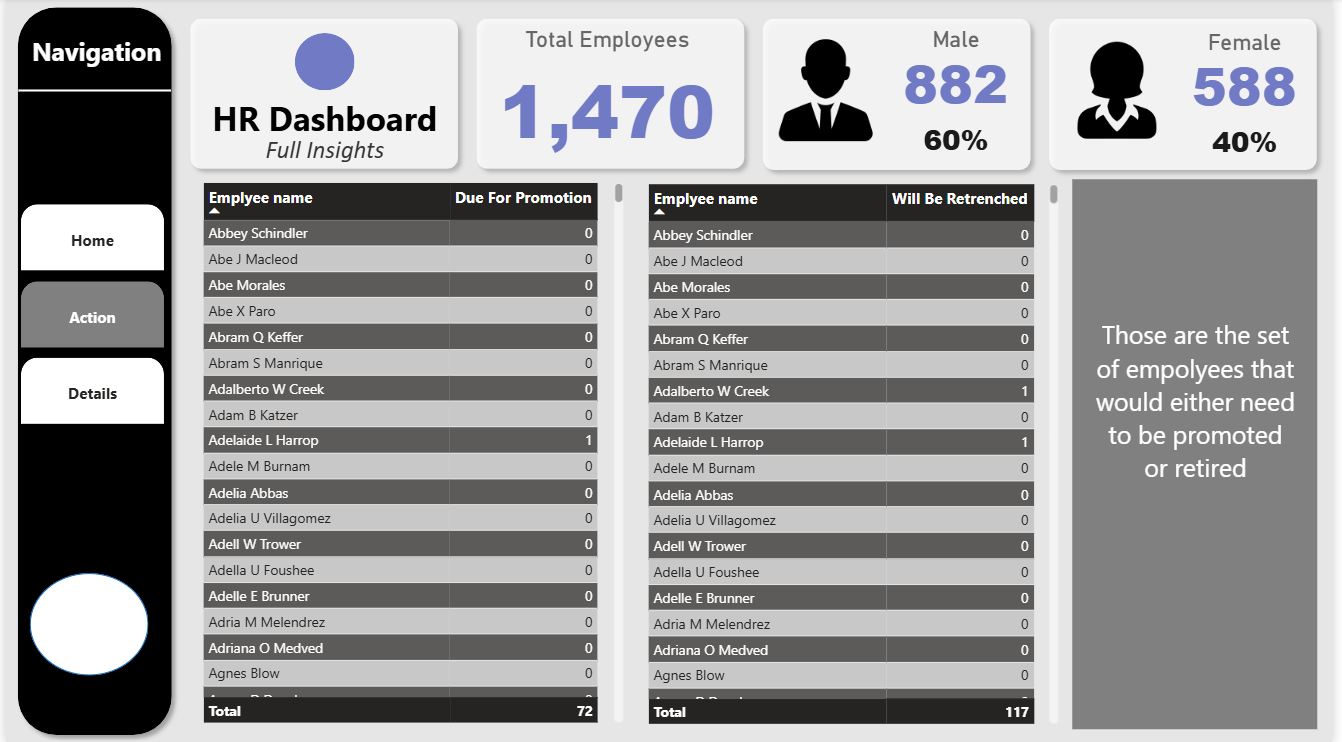

The page's visual inventory and layout, read from the dashboard file:
{"tool":"powerbi","page":{"name":"Action","canvas":[1280,720],"ordinal":1},"visuals":[{"type":"shape","box":[2.4,0,166.5,720.2],"z":0},{"type":"shape","box":[168.9,10.9,276.3,162.9],"z":1000},{"type":"shape","box":[445.2,10.9,276.3,162.9],"z":2000},{"type":"shape","box":[721.5,10.9,276.3,164.1],"z":3000},{"type":"shape","box":[997.7,10.9,276.3,164.1],"z":4000},{"type":"textbox","box":[184.6,89.3,246.1,74.8],"z":5000},{"type":"textbox","box":[184.6,126.7,246.1,47.1],"z":6000},{"type":"shape","box":[278.7,33.8,57.9,55.5],"z":7000},{"type":"card","title":"Total Employees","fields":{"Values":["All Measures.Total Emp"]},"box":[459.7,27.7,241.3,130.3],"z":8000},{"type":"card","title":"Male","fields":{"Values":["All Measures.Male"]},"box":[856.4,27.7,120.6,80.8],"z":9000},{"type":"card","title":"Male","fields":{"Values":["All Measures.% Male"]},"box":[878.3,108.6,77.2,57.9],"z":10000},{"type":"card","title":"Female","fields":{"Values":["All Measures.Female"]},"box":[1135.6,30,120.6,80.8],"z":11000},{"type":"card","title":"Male","fields":{"Values":["All Measures.% Female"]},"box":[1157.6,110.9,77.2,57.9],"z":12000},{"type":"image","box":[1020.6,35,103.8,108.6],"z":13000},{"type":"image","box":[737.1,35,108.6,108.6],"z":14000},{"type":"tableEx","fields":{"Values":["HR employee data.Emplyee name","All Measures.Due For Promotion"]},"box":[184.6,173.7,416.2,530.8],"z":15000},{"type":"tableEx","fields":{"Values":["HR employee data.Emplyee name","All Measures.Will Be Retreanched"]},"box":[614.1,174.9,406.6,530.8],"z":16000},{"type":"pageNavigator","box":[14.5,199.1,138.7,213.5],"z":17000},{"type":"shape","box":[12.1,80.8,147.2,16.9],"z":18000},{"type":"textbox","box":[12.1,30.2,150.8,43.4],"z":19000},{"type":"shape","box":[1029.1,174.9,236.5,530.8],"z":20000},{"type":"textbox","box":[1044.8,304,206.3,218.4],"z":21000},{"type":"shape","box":[22.9,555,114.6,98.9],"z":22000}]}

Visuals, with their boxes in screenshot pixels (x1, y1, x2, y2), scaled from the page's 1280x720 canvas onto the 1342x742 screenshot:
shape: Rect(3, 0, 177, 741)
shape: Rect(177, 11, 467, 179)
shape: Rect(467, 11, 756, 179)
shape: Rect(756, 11, 1046, 180)
shape: Rect(1046, 11, 1336, 180)
textbox: Rect(194, 92, 452, 169)
textbox: Rect(194, 131, 452, 179)
shape: Rect(292, 35, 353, 92)
"Total Employees" card: Rect(482, 29, 735, 163)
"Male" card: Rect(898, 29, 1024, 112)
"Male" card: Rect(921, 112, 1002, 172)
"Female" card: Rect(1191, 31, 1317, 114)
"Male" card: Rect(1214, 114, 1295, 174)
image: Rect(1070, 36, 1179, 148)
image: Rect(773, 36, 887, 148)
tableEx - HR employee data.Emplyee name x All Measures.Due For Promotion: Rect(194, 179, 630, 726)
tableEx - HR employee data.Emplyee name x All Measures.Will Be Retreanched: Rect(644, 180, 1070, 727)
pageNavigator: Rect(15, 205, 161, 425)
shape: Rect(13, 83, 167, 101)
textbox: Rect(13, 31, 171, 76)
shape: Rect(1079, 180, 1327, 727)
textbox: Rect(1095, 313, 1312, 538)
shape: Rect(24, 572, 144, 674)
